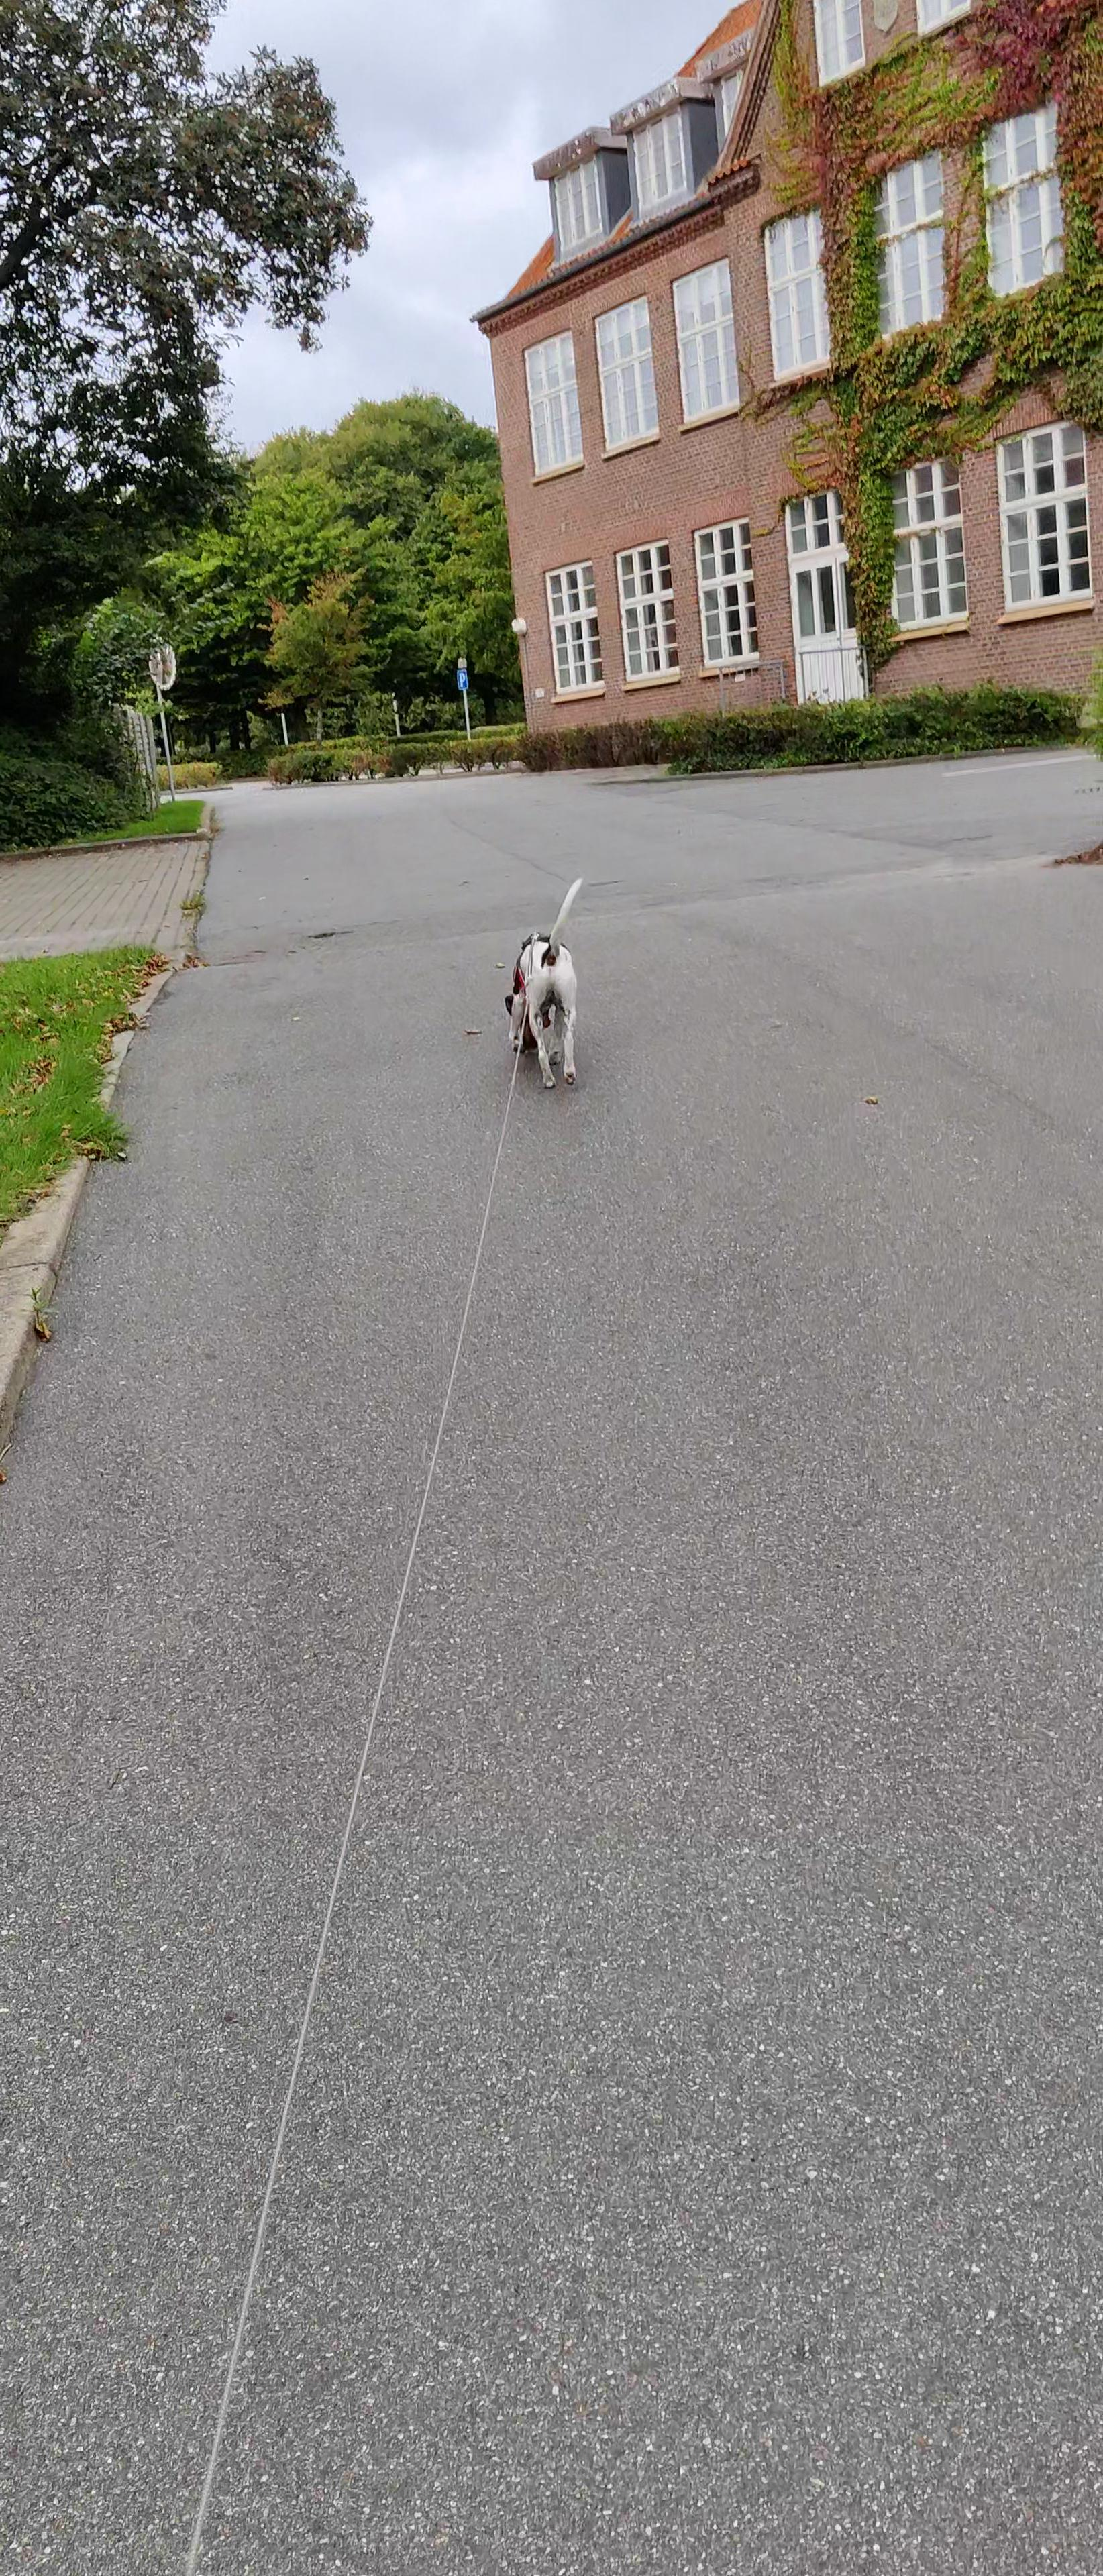Dog: (500, 874, 593, 1088)
